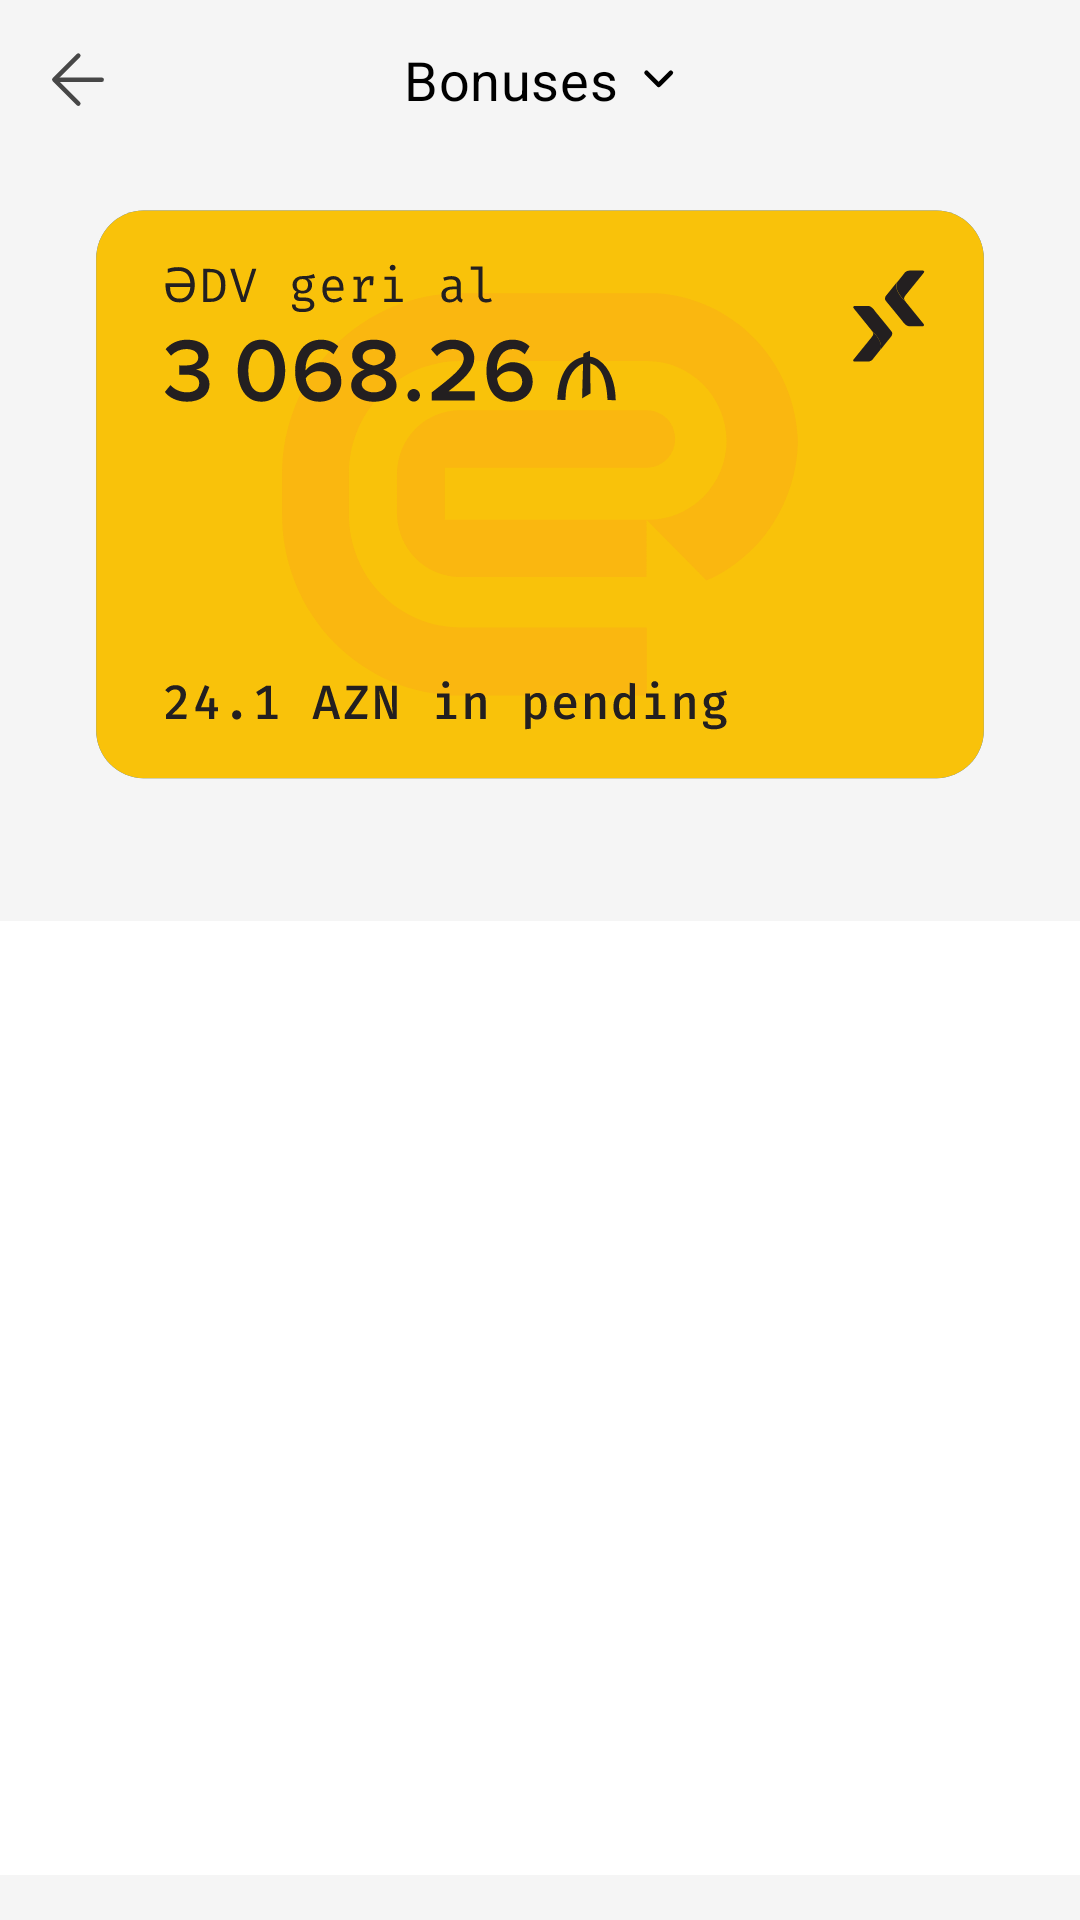

Named icons in this screenshot (1080×1920) and their centers, (x,y):
arrow back: (78,79)
